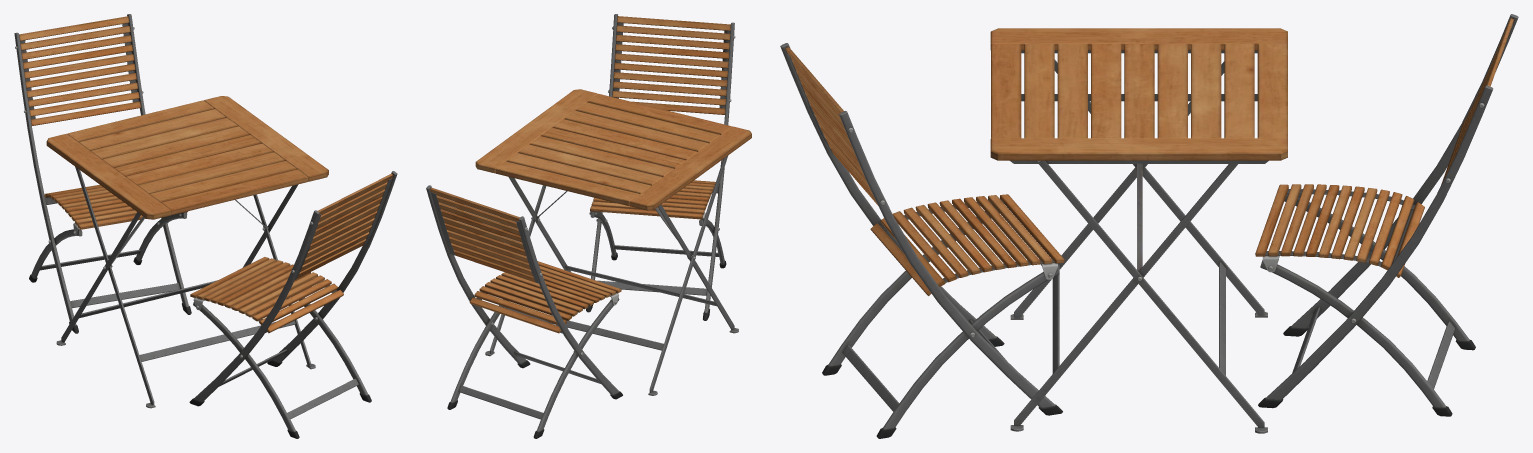
Rendered from outdoor_table_chair_set_01.glb.
3 views of the same model, side by side, from view 1: azimuth 30°, elevation 25°; view 2: azimuth 150°, elevation 25°; view 3: azimuth 270°, elevation 25° (orthographic). The views are drawn at different scales.
Parts seen in each view (by area): view 1: outdoor_table_chair_set_01_chair_01, outdoor_table_chair_set_01_table; view 2: outdoor_table_chair_set_01_chair_01, outdoor_table_chair_set_01_table; view 3: outdoor_table_chair_set_01_table, outdoor_table_chair_set_01_chair_01.
Boxes of the visible parts, x1,y1,x2,y2 form: outdoor_table_chair_set_01_chair_01: (14, 14, 397, 438); outdoor_table_chair_set_01_table: (46, 96, 328, 408); outdoor_table_chair_set_01_chair_01: (426, 14, 735, 438); outdoor_table_chair_set_01_table: (475, 89, 751, 395); outdoor_table_chair_set_01_table: (990, 28, 1287, 433); outdoor_table_chair_set_01_chair_01: (780, 14, 1518, 438).
Bounding box in the file's own units: 0.7417 × 0.8587 × 1.72.
2 materials, 2 textured.
